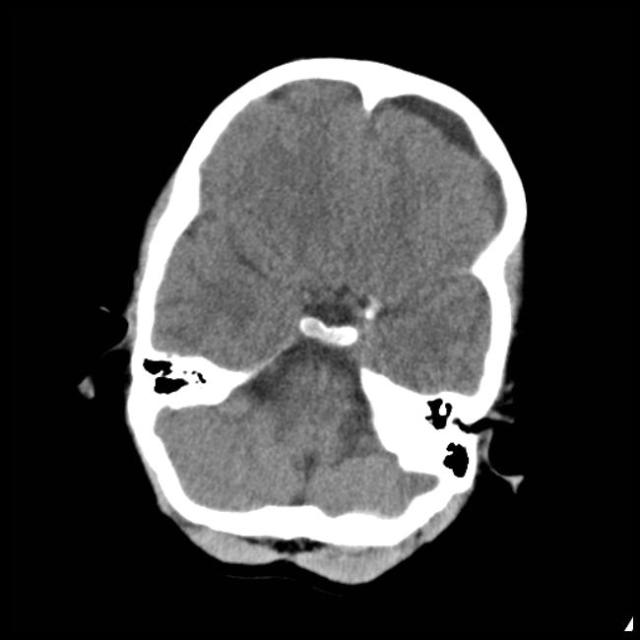lesion: (114, 58, 532, 583)
